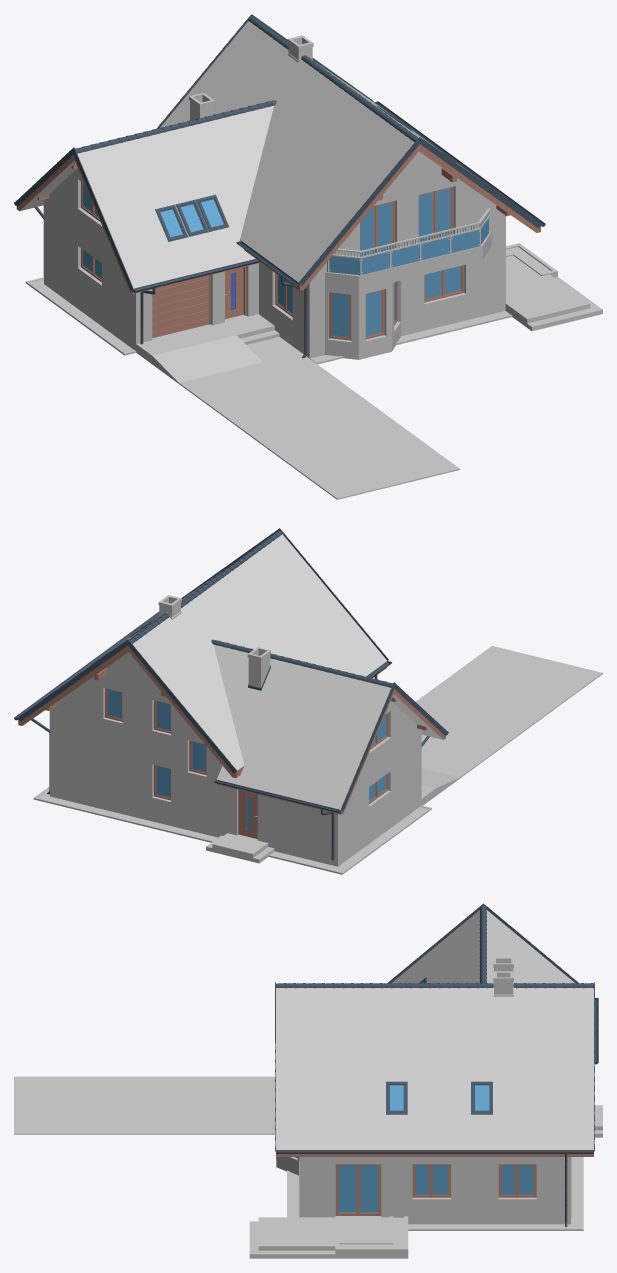
File: house_10.fbx
3 renders of one model, top to bottom at view 1: azimuth 30°, elevation 25°; view 2: azimuth 150°, elevation 25°; view 3: azimuth 270°, elevation 25°, orthographic. The views are drawn at different scales.
Visible parts, largest first — view 1: roof, ground_around_house, wall_exterior, roof_001, window_011, terrace, barrels_001, cover_sides_001, door_garage, balcony, cover_roof_001, gutter_001 (+4 smaller); view 2: wall_exterior, roof, roof_001, ground_around_house, cover_sides_001, window_011, cover_roof_001, gutter_001, chimney_002, door_wing_013; view 3: roof, ground_around_house, wall_exterior, roof_001, window_011, terrace, cover_roof_001, flower_pot, gutter_001, window_roof, cover_sides_001, chimney_002.
Boxes of the visible parts, bbox=[...] form: roof: bbox=[160, 21, 540, 290]; ground_around_house: bbox=[25, 277, 512, 499]; wall_exterior: bbox=[43, 151, 505, 359]; roof_001: bbox=[16, 105, 273, 293]; window_011: bbox=[77, 181, 466, 343]; terrace: bbox=[505, 255, 602, 331]; barrels_001: bbox=[327, 208, 490, 275]; cover_sides_001: bbox=[15, 14, 541, 289]; door_garage: bbox=[152, 275, 210, 337]; balcony: bbox=[325, 232, 491, 290]; cover_roof_001: bbox=[75, 16, 418, 153]; gutter_001: bbox=[14, 101, 545, 358]; wall_exterior: bbox=[49, 652, 421, 866]; roof: bbox=[18, 534, 387, 777]; roof_001: bbox=[213, 644, 445, 814]; ground_around_house: bbox=[33, 646, 602, 874]; cover_sides_001: bbox=[17, 528, 447, 811]; window_011: bbox=[103, 688, 390, 807]; cover_roof_001: bbox=[129, 530, 392, 687]; gutter_001: bbox=[14, 611, 448, 860]; chimney_002: bbox=[158, 595, 270, 690]; door_wing_013: bbox=[238, 790, 257, 838]; roof: bbox=[276, 988, 593, 1156]; ground_around_house: bbox=[14, 1076, 602, 1230]; wall_exterior: bbox=[276, 1157, 571, 1224]; roof_001: bbox=[392, 910, 575, 983]; window_011: bbox=[288, 1157, 536, 1215]; terrace: bbox=[249, 1216, 389, 1258]; cover_roof_001: bbox=[276, 905, 593, 988]; flower_pot: bbox=[335, 1216, 408, 1258]; gutter_001: bbox=[276, 998, 598, 1227]; window_roof: bbox=[386, 977, 492, 1114]; cover_sides_001: bbox=[275, 903, 594, 1151]; chimney_002: bbox=[493, 957, 513, 996].
Bounding box in the file's own units: 17.54 × 8.96 × 23.19.
